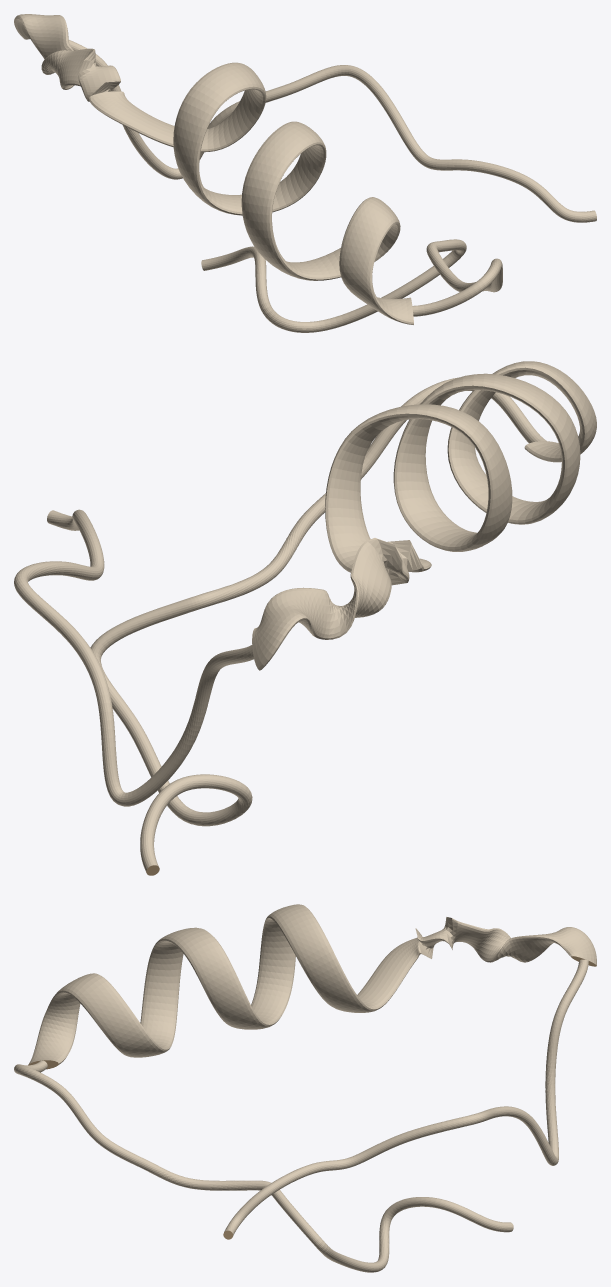
The model's file is fCoilrCoilfCoil.dae.
3 renders of one model, top to bottom at view 1: azimuth 30°, elevation 25°; view 2: azimuth 150°, elevation 25°; view 3: azimuth 270°, elevation 25°, orthographic. The views are drawn at different scales.
Visible parts, largest first — view 1: Shape_IndexedTriangleStripSet_041; view 2: Shape_IndexedTriangleStripSet_041; view 3: Shape_IndexedTriangleStripSet_041.
Part boxes in pixels (box(x1,y1,x2,y2)): Shape_IndexedTriangleStripSet_041: box(14, 14, 596, 332); Shape_IndexedTriangleStripSet_041: box(14, 361, 596, 875); Shape_IndexedTriangleStripSet_041: box(14, 904, 596, 1272).
Size of the model in its own units: 20.93 by 29.24 by 16.4.
